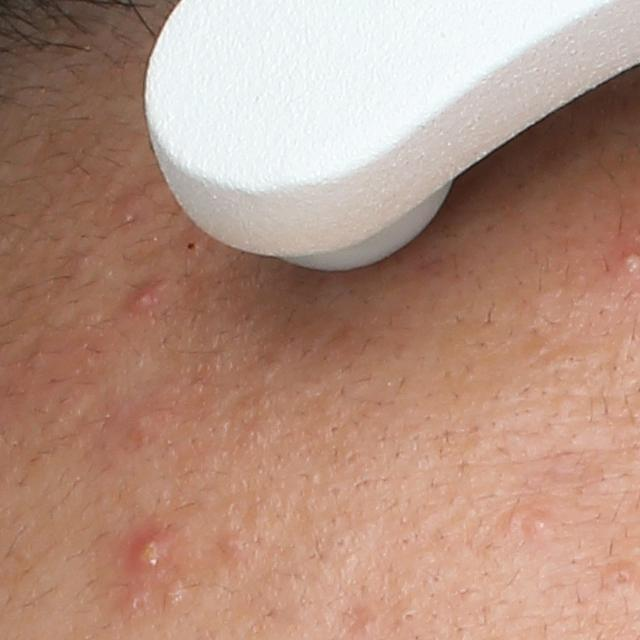atrophic_scar: (342, 601, 376, 640)
comedo: (523, 511, 555, 537), (396, 605, 424, 630)
papule: (129, 285, 160, 313)
pustule: (128, 531, 175, 575)
